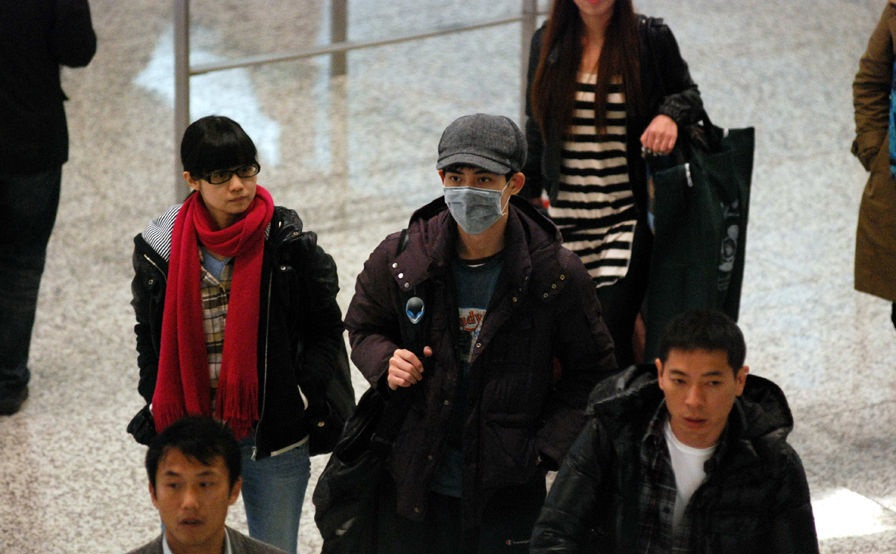face: (147, 452, 229, 545), (665, 350, 734, 431), (197, 158, 259, 212)
face_mask: (444, 161, 509, 231)
